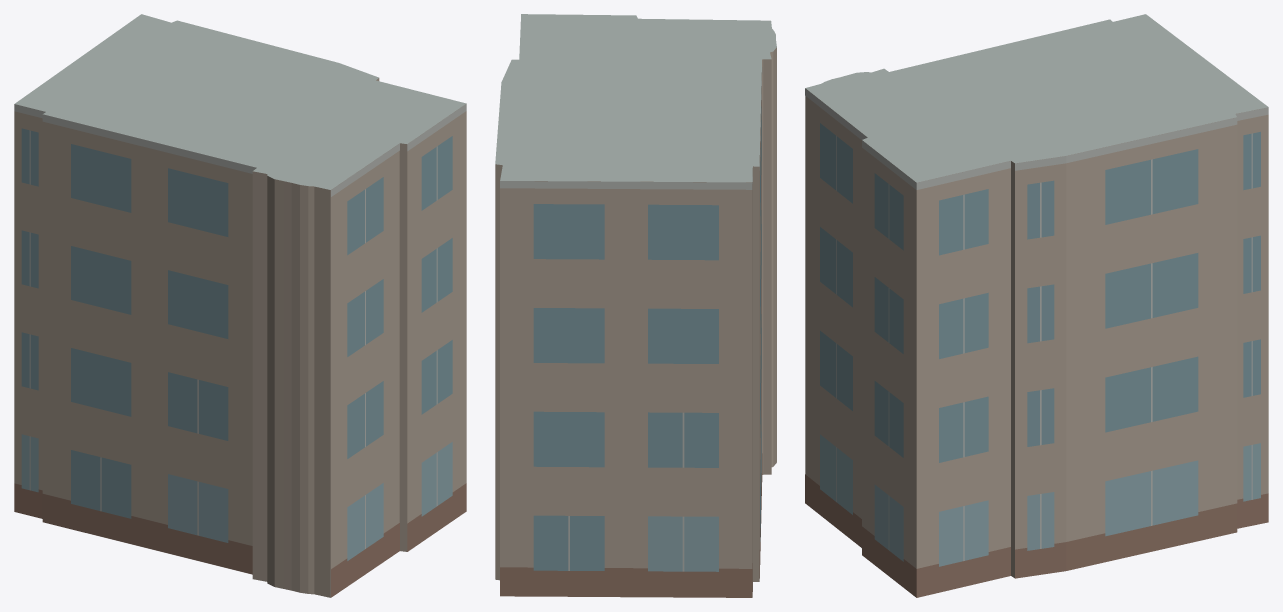
Rendered from survey-upis-33033630.glb.
3 renders of one model, left to right at view 1: azimuth 30°, elevation 25°; view 2: azimuth 150°, elevation 25°; view 3: azimuth 270°, elevation 25°, orthographic.
Visible parts, largest first — view 1: survey-upis-33033630.tmp; view 2: survey-upis-33033630.tmp; view 3: survey-upis-33033630.tmp.
Boxes of the visible parts, x1,y1,x2,y2 form: survey-upis-33033630.tmp: [14, 14, 466, 597]; survey-upis-33033630.tmp: [495, 14, 776, 597]; survey-upis-33033630.tmp: [805, 14, 1268, 597].
Bounding box in the file's own units: 11.86 × 13.6 × 13.77.
